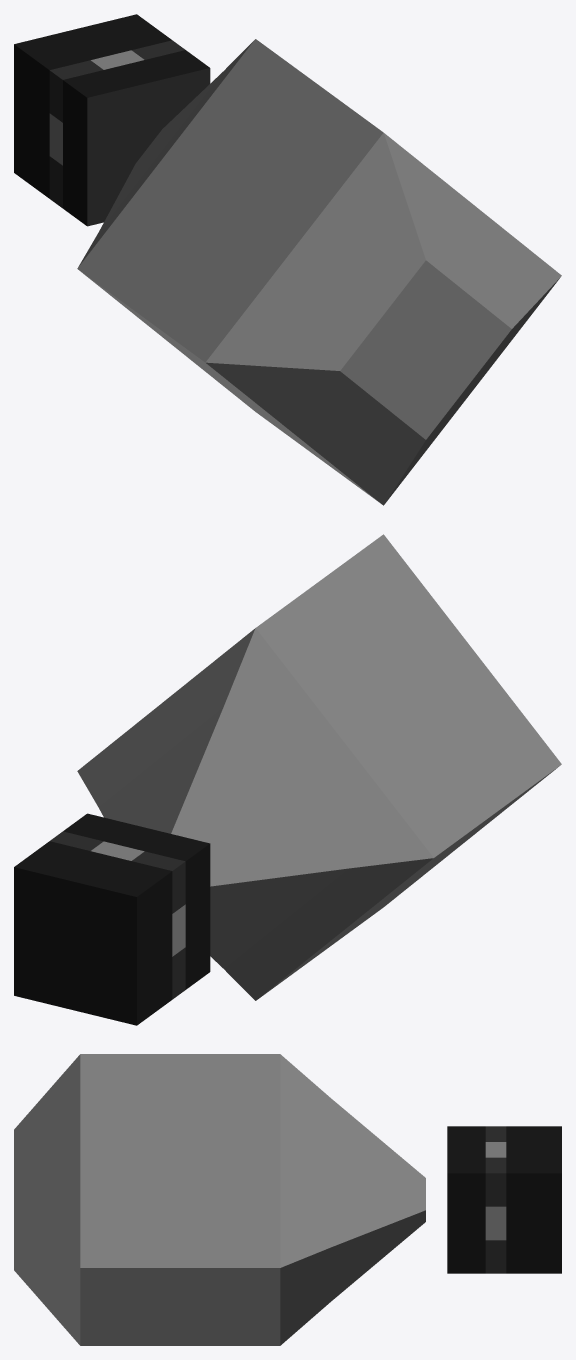
The model's file is LightEntity.fbx.
3 views of the same model, one above another, from view 1: azimuth 30°, elevation 25°; view 2: azimuth 150°, elevation 25°; view 3: azimuth 270°, elevation 25° (orthographic). The views are drawn at different scales.
Visible parts, largest first — view 1: pathNode; view 2: pathNode; view 3: pathNode.
Part boxes in pixels (x1,y1,x2,y2): pathNode: (14, 14, 561, 505); pathNode: (14, 534, 561, 1025); pathNode: (14, 1054, 561, 1345).
Size of the model in its own units: 59.16 by 59.16 by 101.
